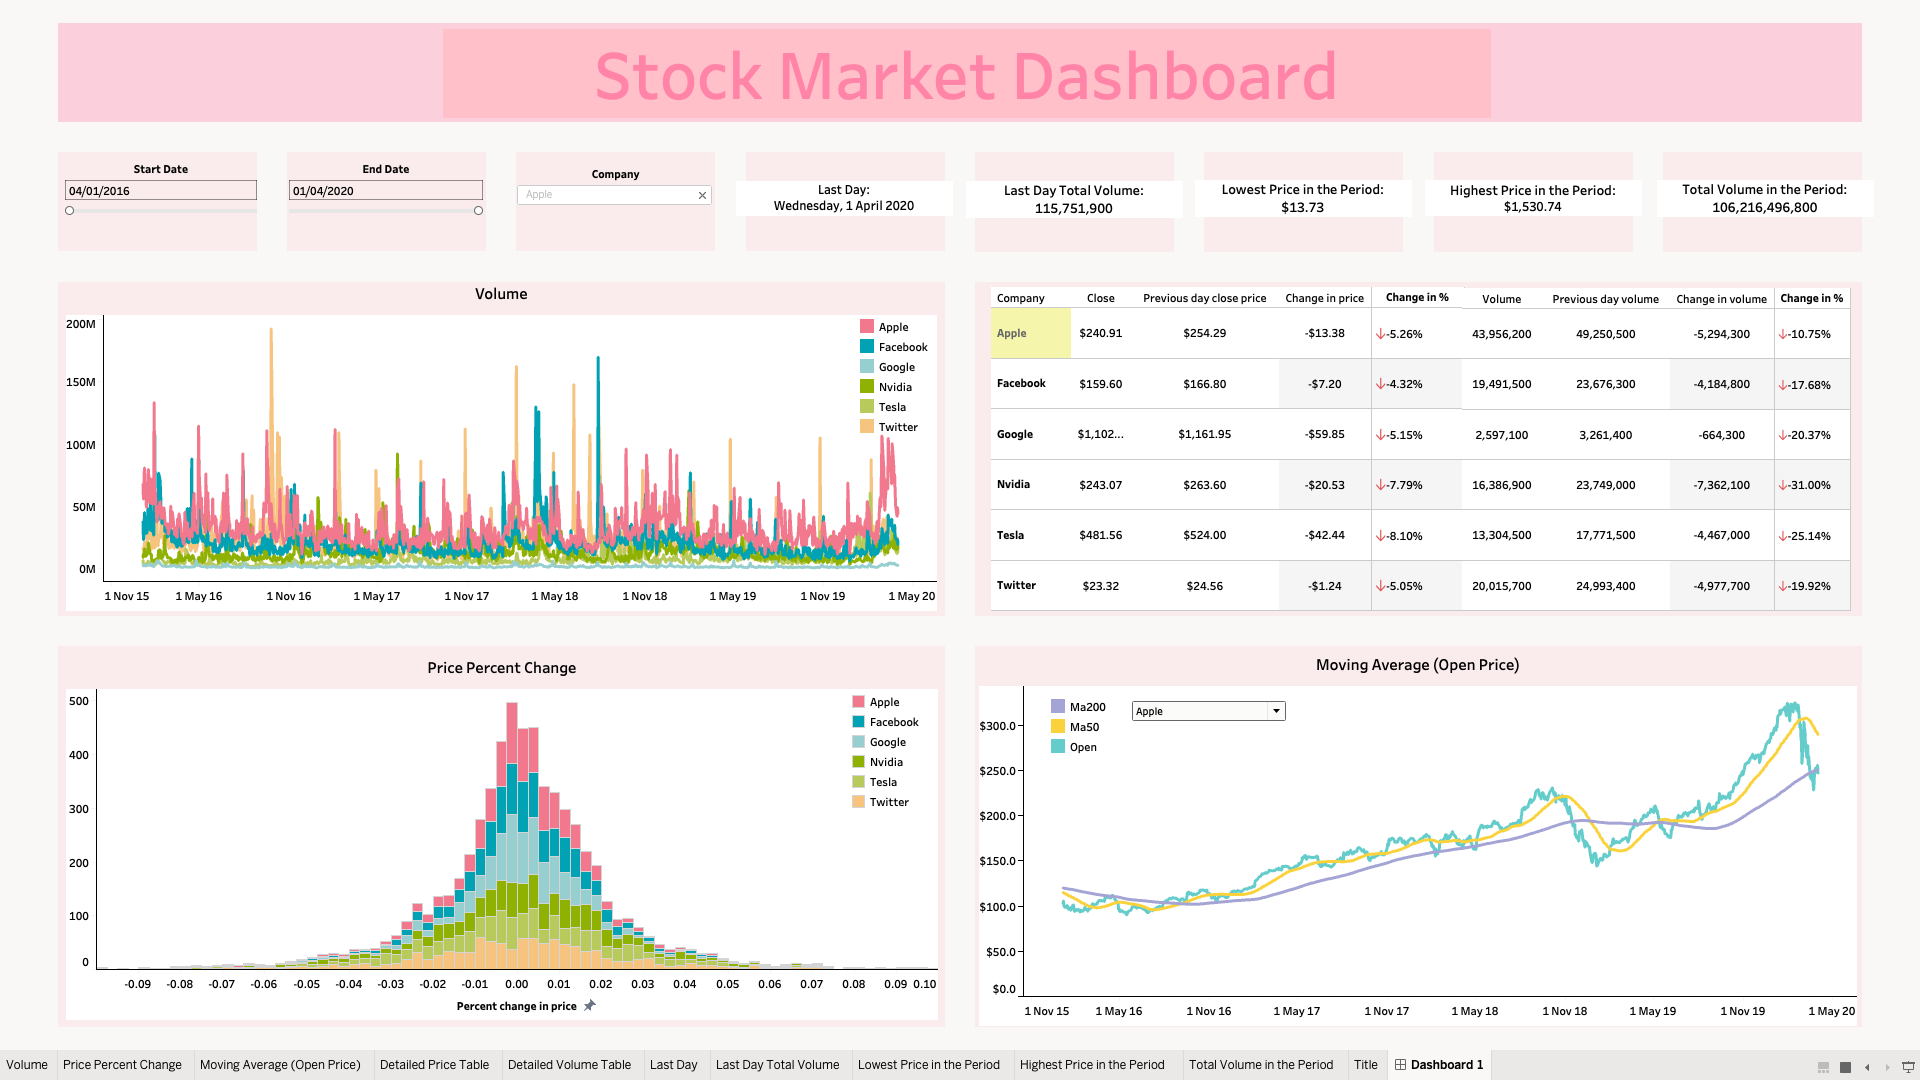

This screenshot's page, from the dashboard's own definition file:
{"tool":"tableau","page":{"name":"Final Dashboard","canvas":[1850,1050],"ordinal":0},"visuals":[{"type":"blank","box":[8,8,1834,129.2]},{"type":"worksheet","title":"Title","mark":"Automatic","box":[408,29,1131,104]},{"type":"blank","box":[8,137.2,229.3,129.3]},{"type":"blank","box":[237.2,137.2,229.3,129.3]},{"type":"blank","box":[466.5,137.2,229.3,129.3]},{"type":"blank","box":[695.7,137.2,229.3,129.3]},{"type":"blank","box":[925,137.2,229.3,129.8]},{"type":"blank","box":[1154.3,137.2,229.3,129.8]},{"type":"blank","box":[1383.5,137.2,229.3,129.8]},{"type":"blank","box":[1612.8,137.2,229.3,129.8]},{"type":"parameter","param":"[Parameters].[Parameter 1]","box":[27,161,198,83]},{"type":"parameter","param":"[Parameters].[Parameter 2]","box":[251,161,200,77]},{"type":"highlighter","title":"Volume","param":"[federated.13w814n1oeqrkj166p8vq1mdm5x7].[none:Table Name:nk]","box":[479,166,201,92]},{"type":"worksheet","title":"Lowest Price in the Period","mark":"Automatic","box":[1160,180,232,44]},{"type":"worksheet","title":"Highest Price in the Period ","mark":"Automatic","box":[1390,180,219,67]},{"type":"worksheet","title":"Last Day ","mark":"Automatic","box":[701,181,292,91]},{"type":"worksheet","title":"Last Day Total Volume","mark":"Automatic","box":[931,181,255,43]},{"type":"blank","box":[8,266.5,917,364.5]},{"type":"blank","box":[925,267,917,364]},{"type":"worksheet","title":"Volume","mark":"Automatic","rows":["Volume"],"cols":["Date"],"box":[31,279,871,332]},{"type":"worksheet","title":"Detailed Price Table","mark":"Automatic","rows":["Table Name","Close","Previous day close price","Change in price"],"box":[956,287,474,324]},{"type":"worksheet","title":"Detailed Volume Table","mark":"Automatic","rows":["Table Name","Volume","Previous day volume","Change in volume"],"box":[1427,288,389,323]},{"type":"legend","title":"Volume","param":"[federated.13w814n1oeqrkj166p8vq1mdm5x7].[none:Table Name:nk]","box":[822,316,80,121]},{"type":"blank","box":[8,631,917,411]},{"type":"blank","box":[925,631,917,411]},{"type":"worksheet","title":"Moving Average (Open Price)","mark":"Automatic","cols":["Date"],"box":[944,650,878,376]},{"type":"worksheet","title":"Price Percent Change","mark":"Automatic","rows":["Percent change in price"],"cols":["Percent change in price (bin)"],"box":[31,653,872,367]},{"type":"legend","title":"Price Percent Change","param":"[federated.13w814n1oeqrkj166p8vq1mdm5x7].[none:Table Name:nk]","box":[813,691,89,136]},{"type":"legend","title":"Moving Average (Open Price)","param":"[federated.13w814n1oeqrkj166p8vq1mdm5x7].[:Measure Names]","box":[1013,696,89,71]},{"type":"filter","title":"Moving Average (Open Price)","param":"[federated.13w814n1oeqrkj166p8vq1mdm5x7].[none:Table Name:nk]","box":[1094,698,160,27]}]}

Visuals, with their boxes on the page's 1850x1050 design canvas (x1, y1, x2, y2). These are canvas units, not pixel positions in the 1920x1080 screenshot, which may show the page scaled, cropped or inside an application window:
blank: select_region(8, 8, 1842, 137)
"Title" worksheet: select_region(408, 29, 1539, 133)
blank: select_region(8, 137, 237, 266)
blank: select_region(237, 137, 466, 266)
blank: select_region(466, 137, 696, 266)
blank: select_region(696, 137, 925, 266)
blank: select_region(925, 137, 1154, 267)
blank: select_region(1154, 137, 1384, 267)
blank: select_region(1384, 137, 1613, 267)
blank: select_region(1613, 137, 1842, 267)
parameter: select_region(27, 161, 225, 244)
parameter: select_region(251, 161, 451, 238)
"Volume" highlighter: select_region(479, 166, 680, 258)
"Lowest Price in the Period" worksheet: select_region(1160, 180, 1392, 224)
"Highest Price in the Period " worksheet: select_region(1390, 180, 1609, 247)
"Last Day " worksheet: select_region(701, 181, 993, 272)
"Last Day Total Volume" worksheet: select_region(931, 181, 1186, 224)
blank: select_region(8, 266, 925, 631)
blank: select_region(925, 267, 1842, 631)
"Volume" worksheet: select_region(31, 279, 902, 611)
"Detailed Price Table" worksheet: select_region(956, 287, 1430, 611)
"Detailed Volume Table" worksheet: select_region(1427, 288, 1816, 611)
"Volume" legend: select_region(822, 316, 902, 437)
blank: select_region(8, 631, 925, 1042)
blank: select_region(925, 631, 1842, 1042)
"Moving Average (Open Price)" worksheet: select_region(944, 650, 1822, 1026)
"Price Percent Change" worksheet: select_region(31, 653, 903, 1020)
"Price Percent Change" legend: select_region(813, 691, 902, 827)
"Moving Average (Open Price)" legend: select_region(1013, 696, 1102, 767)
"Moving Average (Open Price)" filter: select_region(1094, 698, 1254, 725)
